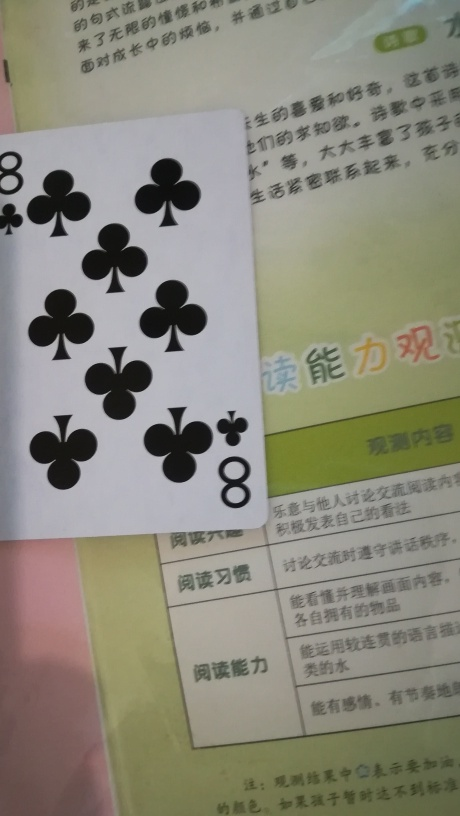mh 8: (2, 110, 270, 536)
